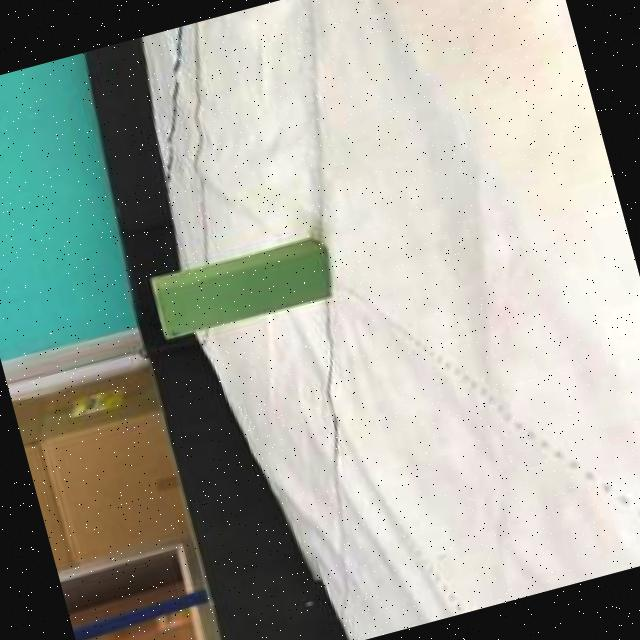greenbox: (146, 234, 334, 344)
